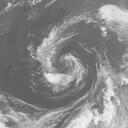cyclone: (22, 13, 110, 103)
